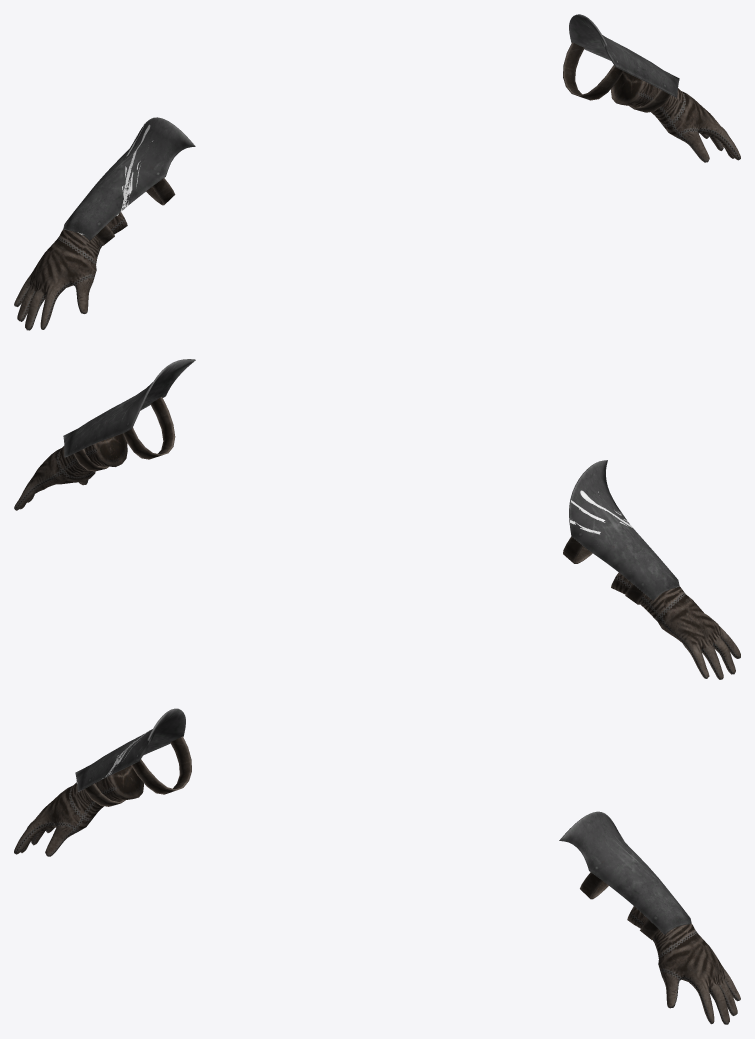
The model's file is sk_uruk_hai_bracer_medium_a3.fbx.
3 views of the same model, one above another, from view 1: azimuth 30°, elevation 25°; view 2: azimuth 150°, elevation 25°; view 3: azimuth 330°, elevation 25° (orthographic).
Parts seen in each view (by area): view 1: sk_uruk_hai_bracer_medium_a3.1, sk_uruk_hai_bracer_medium_a3.0; view 2: sk_uruk_hai_bracer_medium_a3.1, sk_uruk_hai_bracer_medium_a3.0; view 3: sk_uruk_hai_bracer_medium_a3.1, sk_uruk_hai_bracer_medium_a3.0.
Part boxes in pixels (<box>): sk_uruk_hai_bracer_medium_a3.1: <box>14,42,740,330</box>; sk_uruk_hai_bracer_medium_a3.0: <box>63,14,679,240</box>; sk_uruk_hai_bracer_medium_a3.1: <box>14,397,740,679</box>; sk_uruk_hai_bracer_medium_a3.0: <box>63,359,679,600</box>; sk_uruk_hai_bracer_medium_a3.1: <box>14,736,740,1024</box>; sk_uruk_hai_bracer_medium_a3.0: <box>75,708,691,934</box>.
Bounding box in the file's own units: 1.59 × 0.1963 × 0.3715.
3 materials, 3 textured.
